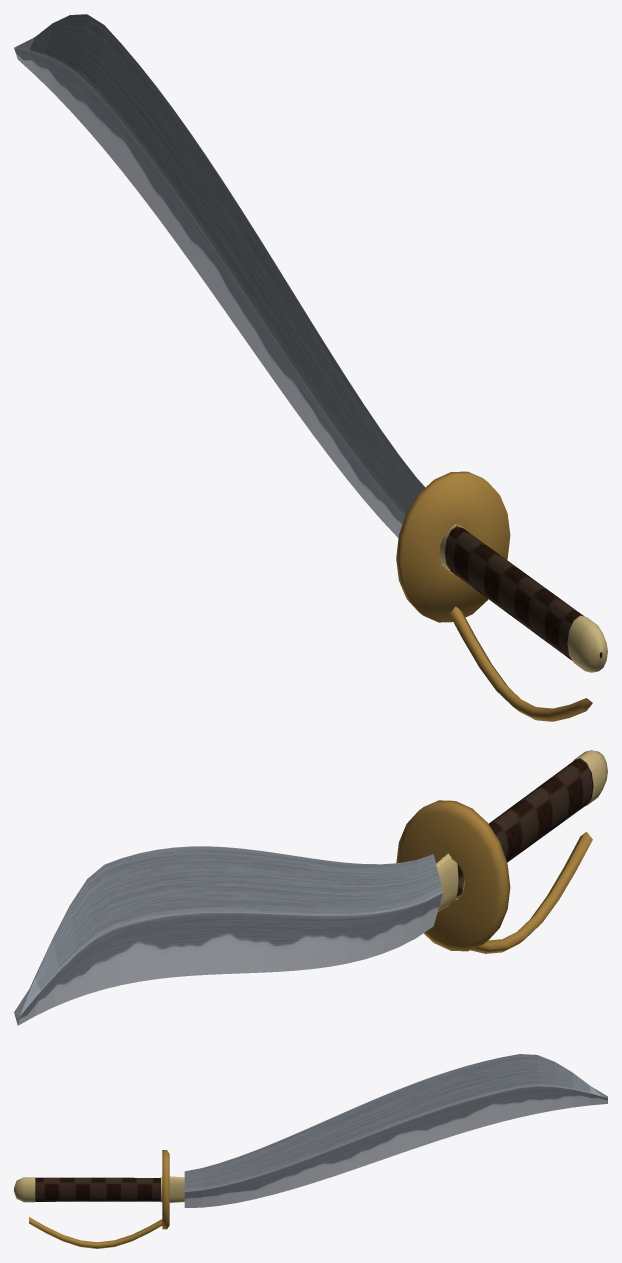
The model's file is scimitar.glb.
3 renders of one model, top to bottom at view 1: azimuth 30°, elevation 25°; view 2: azimuth 150°, elevation 25°; view 3: azimuth 270°, elevation 25°, orthographic. The views are drawn at different scales.
Visible parts, largest first — view 1: main; view 2: main; view 3: main.
Boxes of the visible parts, bbox=[...] form: main: bbox=[14, 14, 607, 721]; main: bbox=[14, 750, 607, 1025]; main: bbox=[14, 1054, 607, 1248].
Size of the model in its own units: 0.1032 by 0.3455 by 0.954.
Materials: 4 (3 with a texture image).
